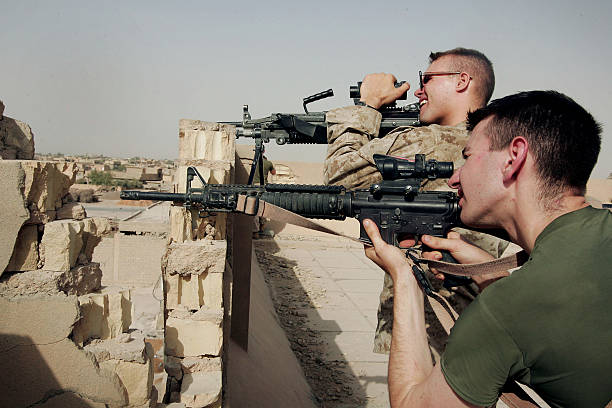rifle: (124, 153, 463, 289), (230, 86, 423, 160)
